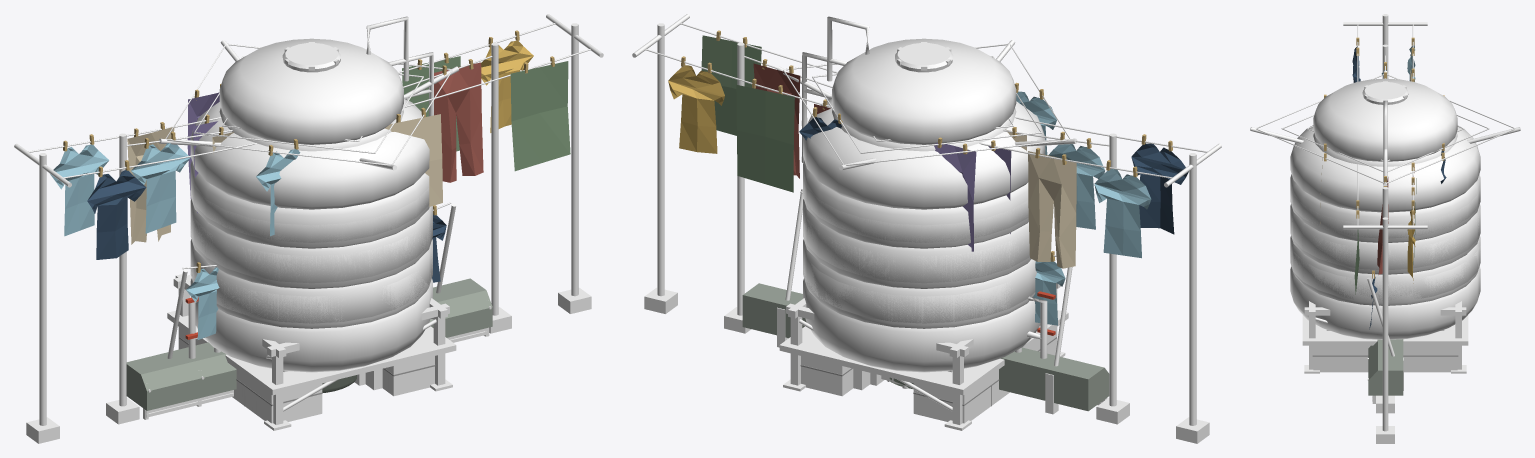
File: extkit_near.glb
3 views of the same model, side by side, from view 1: azimuth 30°, elevation 25°; view 2: azimuth 150°, elevation 25°; view 3: azimuth 270°, elevation 25° (orthographic). The views are drawn at different scales.
Parts seen in each view (by area): view 1: extkit_tank_2000_black_block-2, extkit_tank_2000_black_steel-2, extkit_tank_1000_black_raised-2, extkit_laundry_roof-3, extkit_laundry_pole-3, extkit_tank_2000_black_block-0, extkit_shutter_260-0, extkit_laundry_roof-0, extkit_laundry_pole-0, extkit_laundry_rotary-2, extkit_tank_2000_black_steel-0, extkit_laundry_balcony-2 (+11 smaller); view 2: extkit_tank_2000_black_steel-2, extkit_tank_2000_black_block-2, extkit_laundry_roof-3, extkit_tank_1000_black_raised-2, extkit_tank_2000_black_block-0, extkit_shutter_260-0, extkit_laundry_roof-0, extkit_laundry_pole-3, extkit_laundry_pole-0, extkit_tank_2000_black_steel-0, extkit_laundry_rotary-2, extkit_laundry_balcony-0 (+9 smaller); view 3: extkit_tank_2000_black_steel-2, extkit_tank_2000_black_block-2, extkit_tank_1000_black_raised-2, extkit_tank_2000_black_block-0, extkit_laundry_roof-0, extkit_shutter_260-0, extkit_laundry_rotary-1, extkit_tank_2000_black_steel-0, extkit_laundry_roof-3, extkit_laundry_rotary-0, extkit_laundry_roof-4, extkit_laundry_pole-0 (+5 smaller).
Boxes of the visible parts, bbox=[...] form: extkit_tank_2000_black_block-2: bbox=[190, 179, 432, 372]; extkit_tank_2000_black_steel-2: bbox=[190, 99, 432, 328]; extkit_tank_1000_black_raised-2: bbox=[219, 38, 403, 151]; extkit_laundry_roof-3: bbox=[50, 40, 570, 259]; extkit_laundry_pole-3: bbox=[131, 62, 483, 233]; extkit_tank_2000_black_block-0: bbox=[167, 310, 456, 423]; extkit_shutter_260-0: bbox=[126, 278, 492, 410]; extkit_laundry_roof-0: bbox=[14, 14, 603, 425]; extkit_laundry_pole-0: bbox=[119, 42, 498, 406]; extkit_laundry_rotary-2: bbox=[187, 92, 442, 236]; extkit_tank_2000_black_steel-0: bbox=[173, 274, 449, 424]; extkit_laundry_balcony-2: bbox=[186, 213, 446, 339]; extkit_tank_2000_black_steel-2: bbox=[803, 99, 1045, 328]; extkit_tank_2000_black_block-2: bbox=[803, 175, 1040, 372]; extkit_laundry_roof-3: bbox=[668, 35, 1188, 268]; extkit_tank_1000_black_raised-2: bbox=[832, 38, 1016, 151]; extkit_tank_2000_black_block-0: bbox=[779, 310, 1068, 423]; extkit_shutter_260-0: bbox=[742, 283, 1109, 411]; extkit_laundry_roof-0: bbox=[632, 14, 1221, 425]; extkit_laundry_pole-3: bbox=[753, 63, 1104, 229]; extkit_laundry_pole-0: bbox=[737, 42, 1116, 406]; extkit_tank_2000_black_steel-0: bbox=[786, 283, 1061, 424]; extkit_laundry_rotary-2: bbox=[799, 91, 1056, 251]; extkit_laundry_balcony-0: bbox=[777, 189, 1072, 414]; extkit_tank_2000_black_steel-2: bbox=[1290, 125, 1480, 305]; extkit_tank_2000_black_block-2: bbox=[1290, 186, 1480, 339]; extkit_tank_1000_black_raised-2: bbox=[1313, 78, 1457, 166]; extkit_tank_2000_black_block-0: bbox=[1302, 315, 1468, 372]; extkit_laundry_roof-0: bbox=[1343, 14, 1427, 431]; extkit_shutter_260-0: bbox=[1368, 340, 1403, 395]; extkit_laundry_rotary-1: bbox=[1256, 74, 1514, 183]; extkit_tank_2000_black_steel-0: bbox=[1304, 301, 1466, 369]; extkit_laundry_roof-3: bbox=[1352, 45, 1416, 294]; extkit_laundry_rotary-0: bbox=[1250, 70, 1520, 186]; extkit_laundry_roof-4: bbox=[1356, 37, 1414, 218]; extkit_laundry_pole-0: bbox=[1382, 44, 1388, 217].
Bounding box in the file's own units: 4.16 × 2.38 × 2.25.
